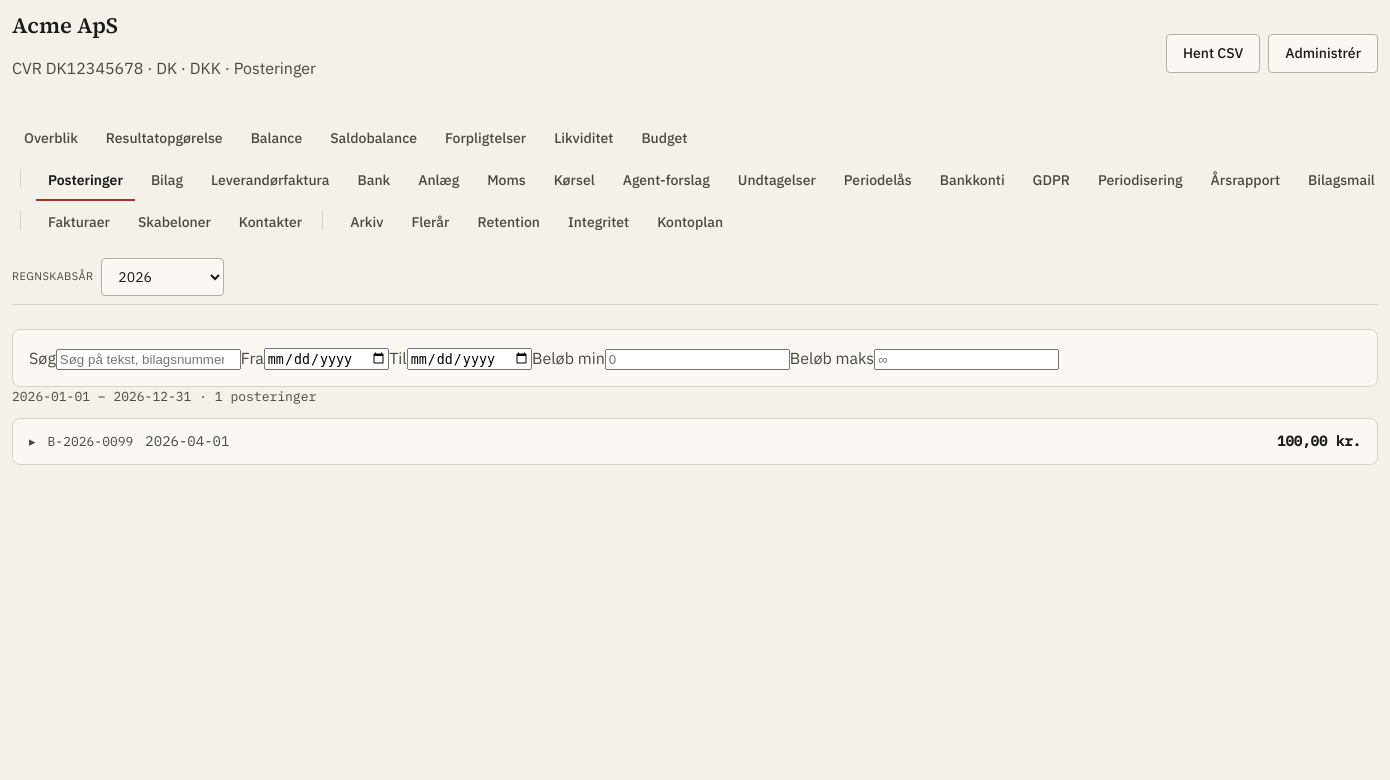
Test: JournalView — #396 filter-bar › #379 — en entry uden documentId viser 'Intet bilag' og intet klikbart link
Click the button named "Manuel kassekladde".
click(90, 441)  # box [13, 419, 1377, 464]
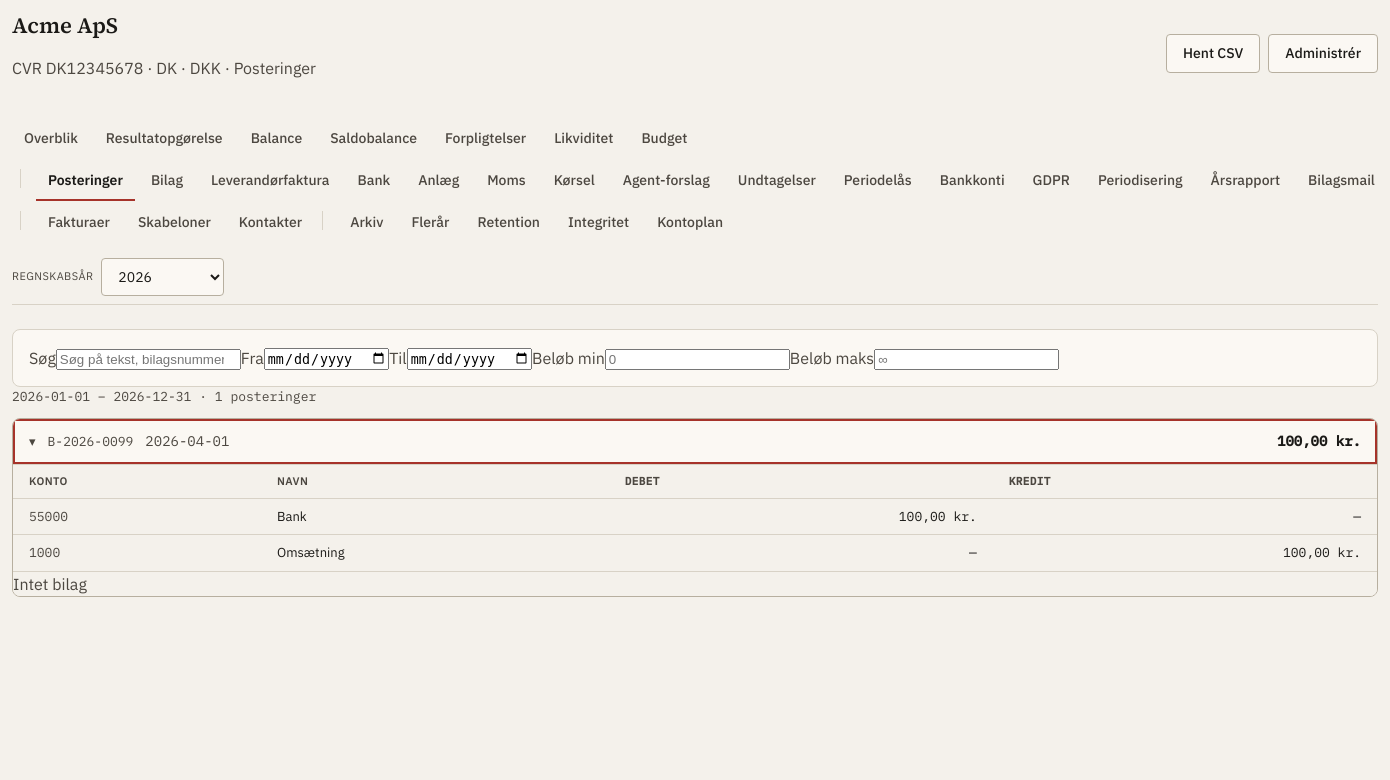
Check: the text "Intet bilag" is shown, box [13, 574, 87, 594]
